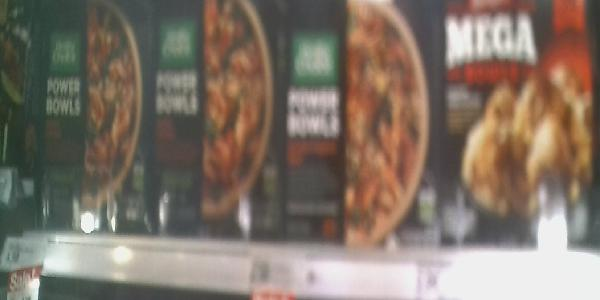pizza1: (440, 1, 594, 247), (286, 1, 439, 246), (154, 1, 286, 244), (19, 1, 154, 236)
